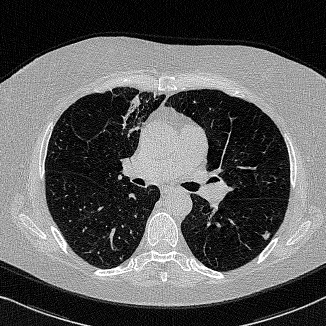nodule: (262, 231, 270, 239)
